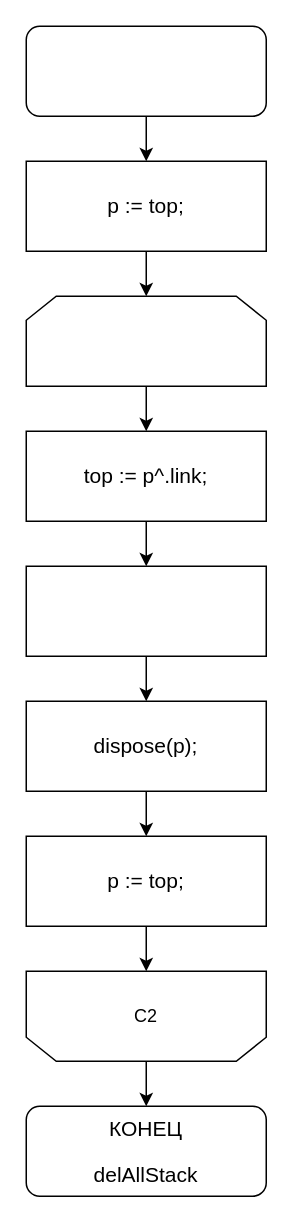
The diagram is 293 pixels wide and 1223 high, and some of its shapes have lost their labels. The shapes that lost their labels are listed below. From the top down, each one's box as (x1, y1, x2, y2) in pixels, then its label:
(25, 25, 266, 116): delAllStack НАЧАЛО
(25, 295, 266, 386): C2 p = NIL
(25, 565, 266, 656): p^.link := NIL;
